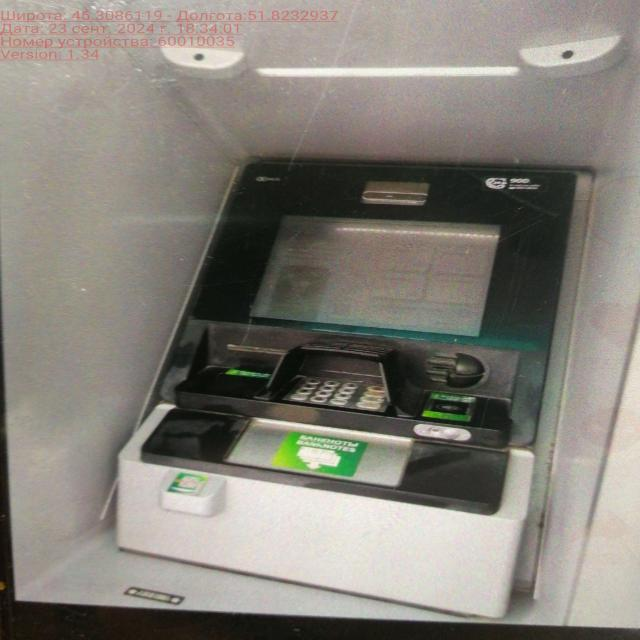bank: (126, 101, 640, 640)
